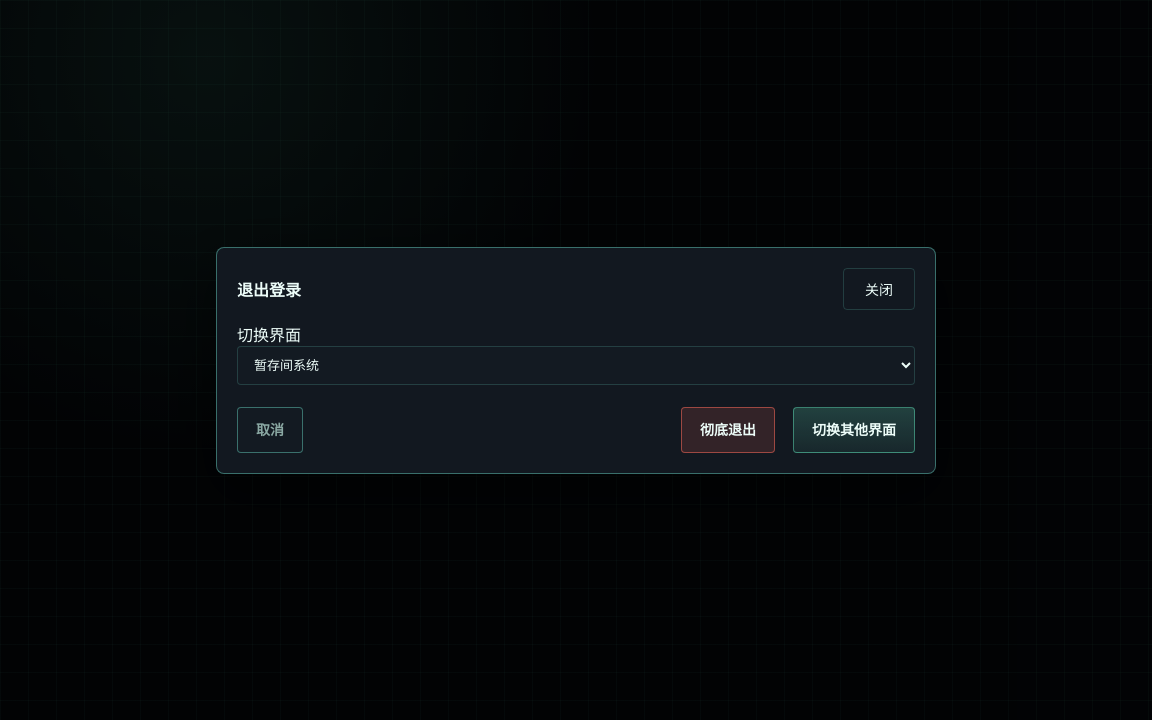
Scenario: ModuleExitDialog › shows a validation message when switching to the current module
Click the button with test id "module-exit-switch" at {"x": 854, "y": 430}, box x1=793 y1=406 x2=915 y2=452
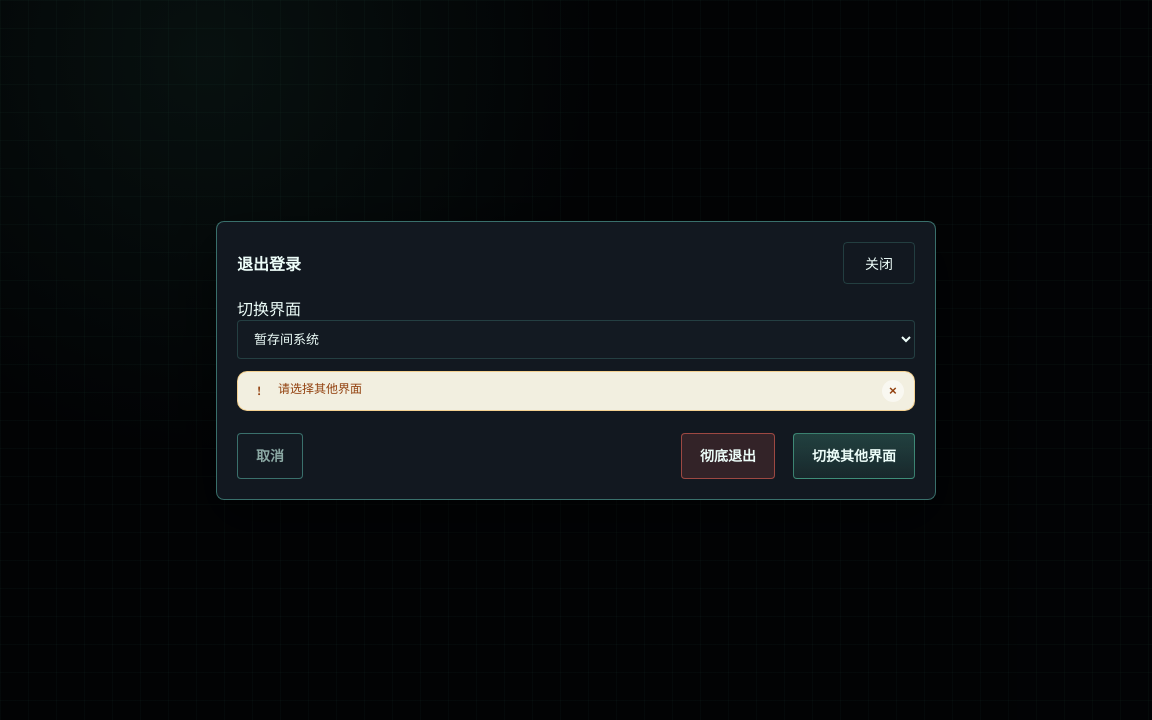
Check: the text "请选择其他界面" is shown, box x1=278 y1=380 x2=362 y2=396
